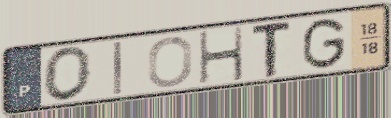G: (300, 16, 348, 72)
H: (197, 24, 246, 87)
I: (111, 39, 124, 97)
O: (41, 44, 94, 103), (146, 34, 195, 89)
T: (250, 18, 295, 80)
